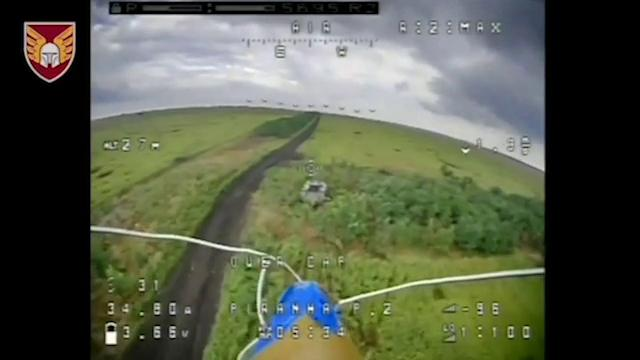tank: (298, 165, 333, 210)
